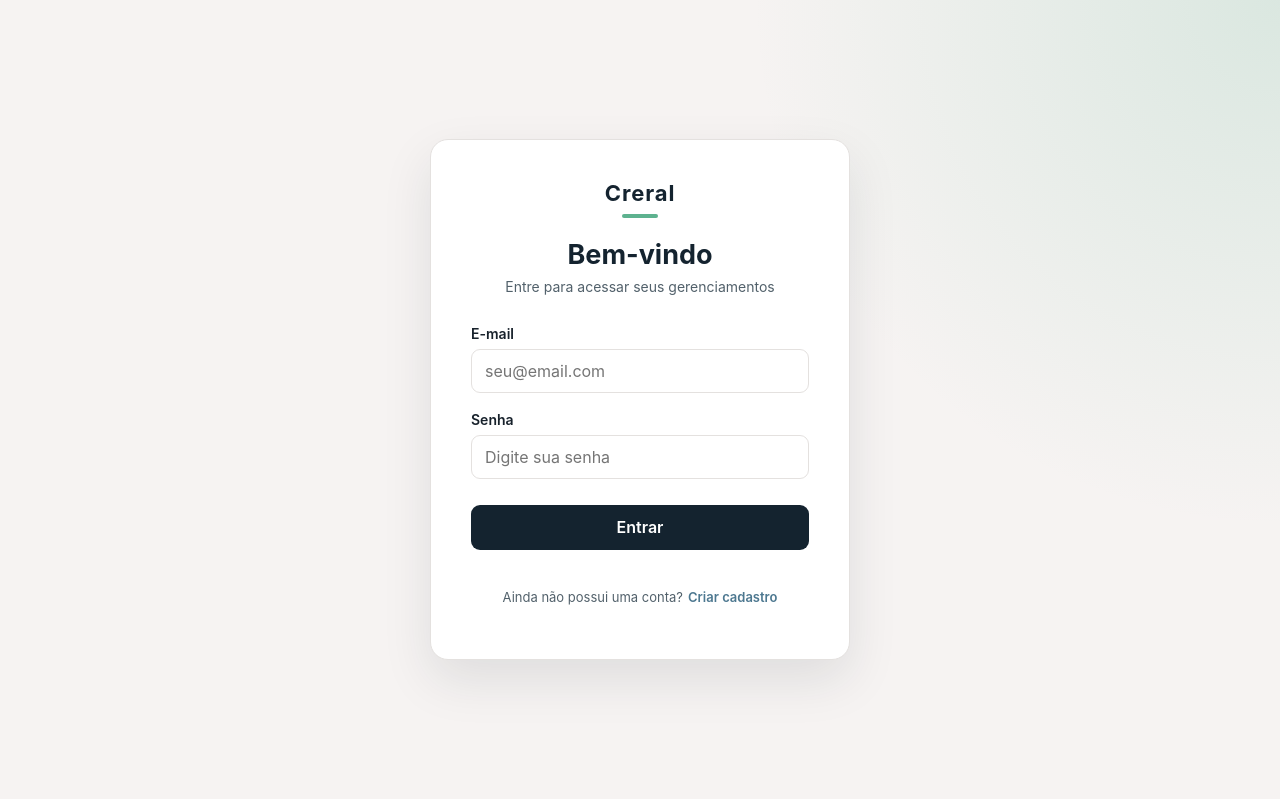
AUT-08/13: falha da segunda chave mantém cadastro, rascunho e alerta de storage sem login
Step 1. Click the button "Criar cadastro" → (733, 596), box [688,574,777,618]
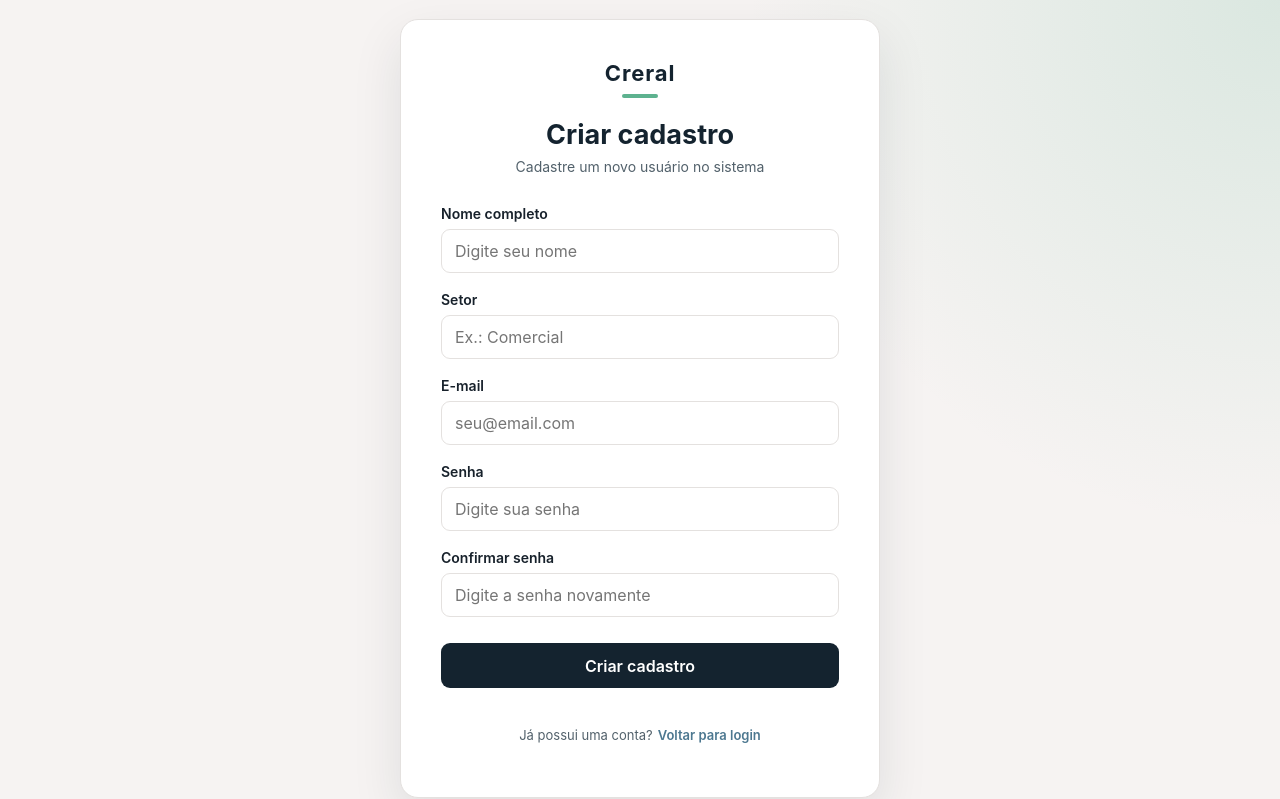
Step 2. Type " Nova " into the field labelled "Nome completo" → (640, 251), box [441,229,839,273]
Step 3. Type " Campo " into the field labelled "Setor" → (640, 337), box [441,315,839,359]
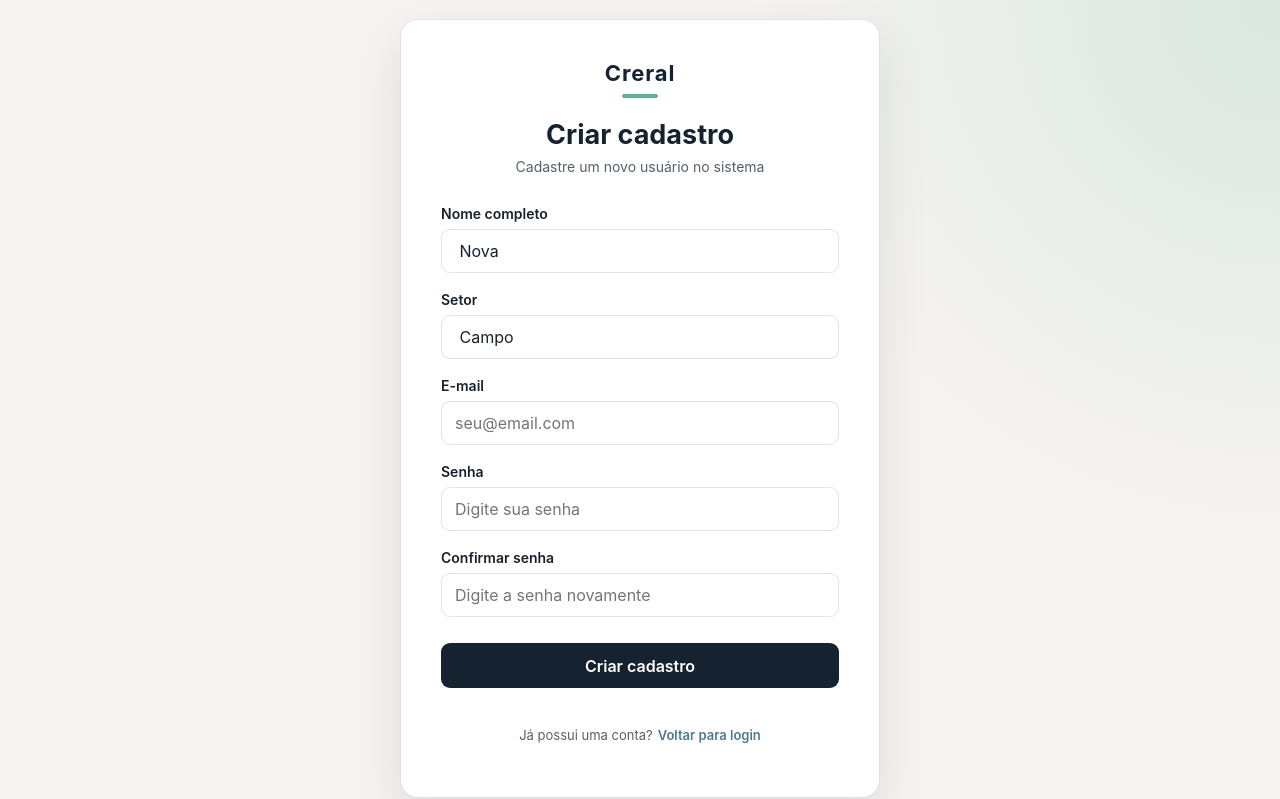
Step 4. Type "nova@example.test" into the field labelled "E-mail" → (640, 423), box [441,401,839,445]
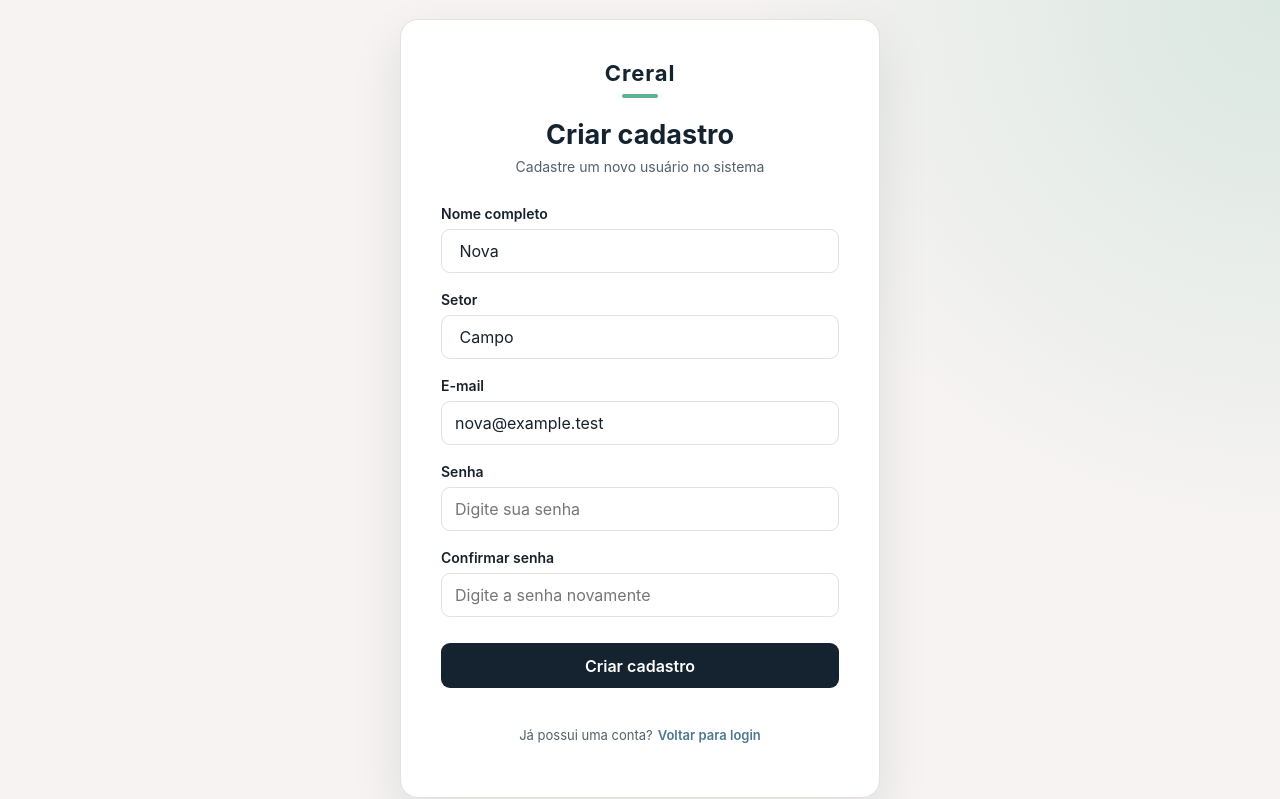
Step 5. Type "senha-ficticia" into the password field labelled "Senha" → (640, 509), box [441,487,839,531]
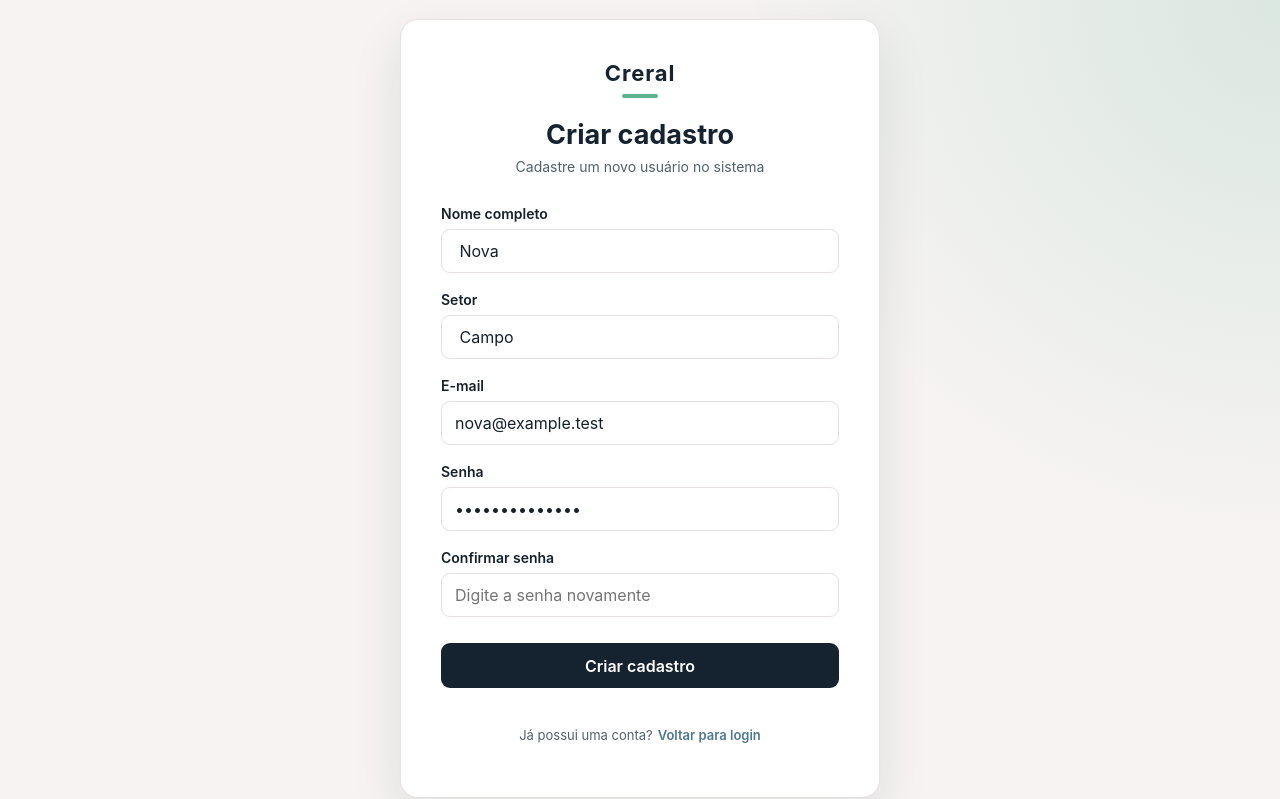
Step 6. Type "senha-ficticia" into the password field labelled "Confirmar senha" → (640, 595), box [441,573,839,617]
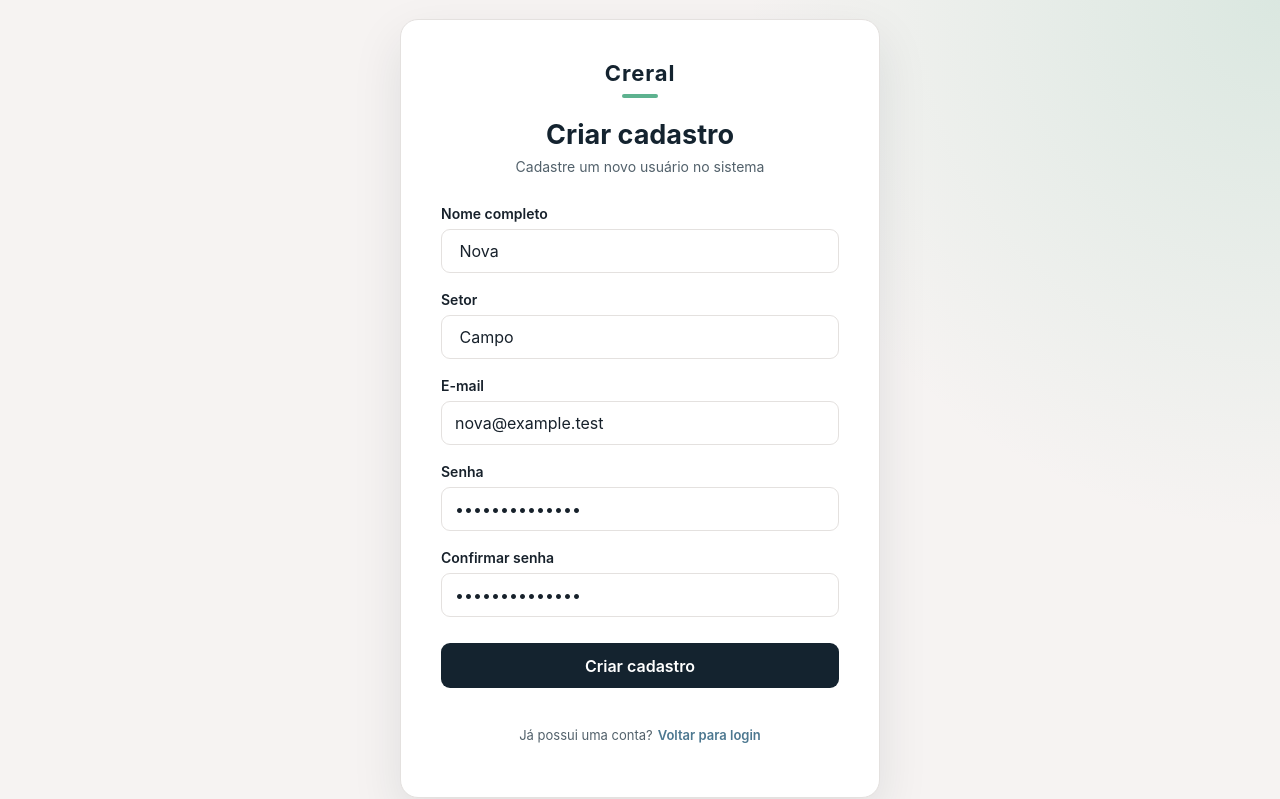
Step 7. Click the button "Criar cadastro" → (640, 666), box [441,643,839,688]
(page scrolled)
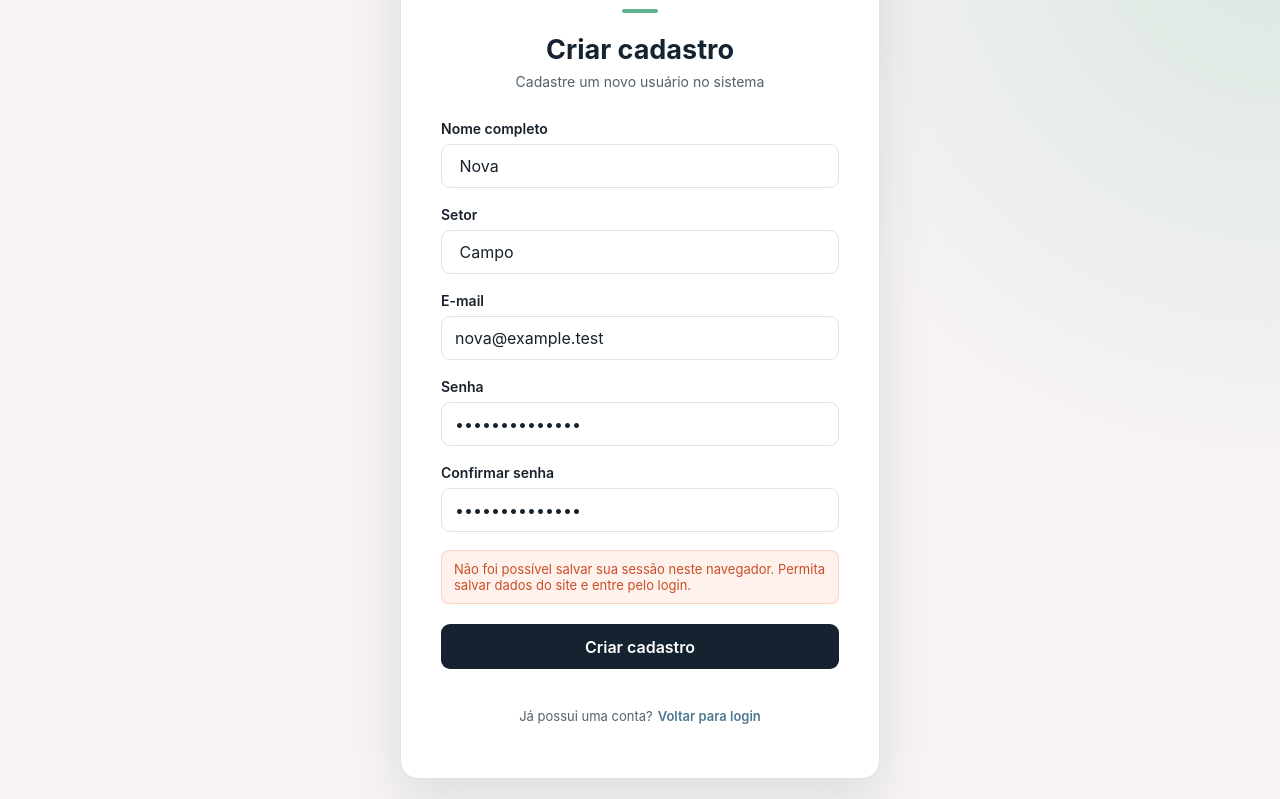
Check: the heading "Criar cadastro" is shown, box [546,33,734,66]
Check: the field labelled "Nome completo" is enabled, box [441,144,839,188]
Check: the message shows "Não foi possível salvar sua sessão neste navegador. Permita salvar dados do site e entre pelo login.", box [454,561,825,593]
